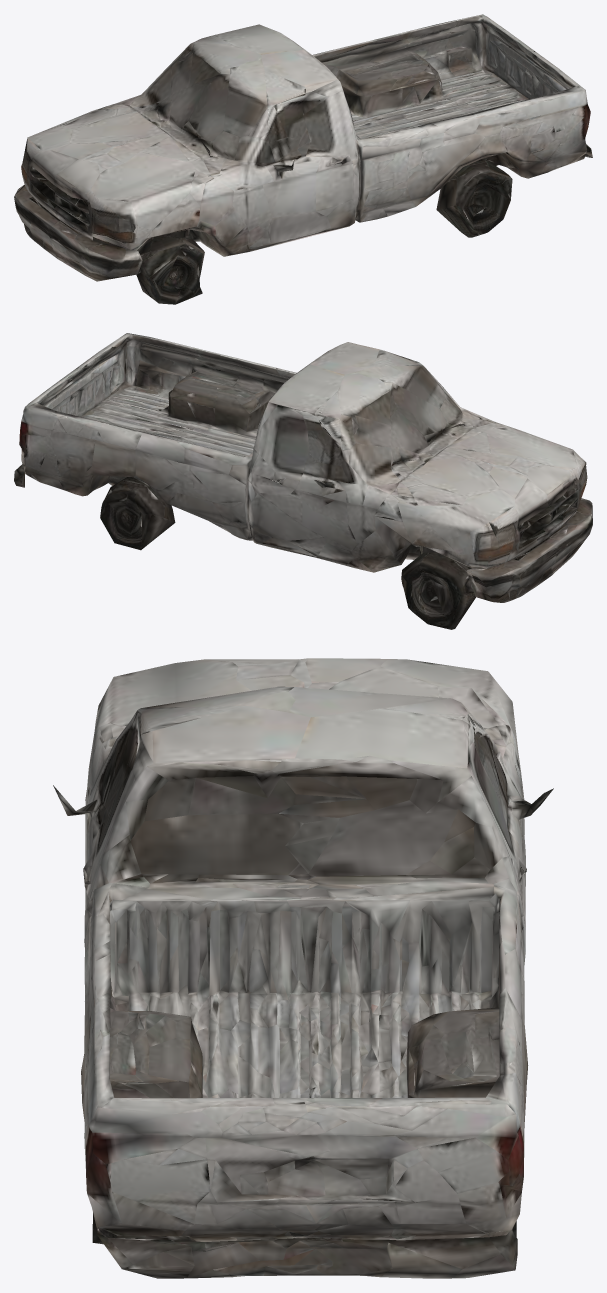
The model's file is pickup.glb.
3 views of the same model, one above another, from view 1: azimuth 30°, elevation 25°; view 2: azimuth 150°, elevation 25°; view 3: azimuth 270°, elevation 25° (orthographic). The views are drawn at different scales.
Bounding box in the file's own units: 1.9 × 0.6797 × 0.8314.
Materials: 1 (1 with a texture image).
